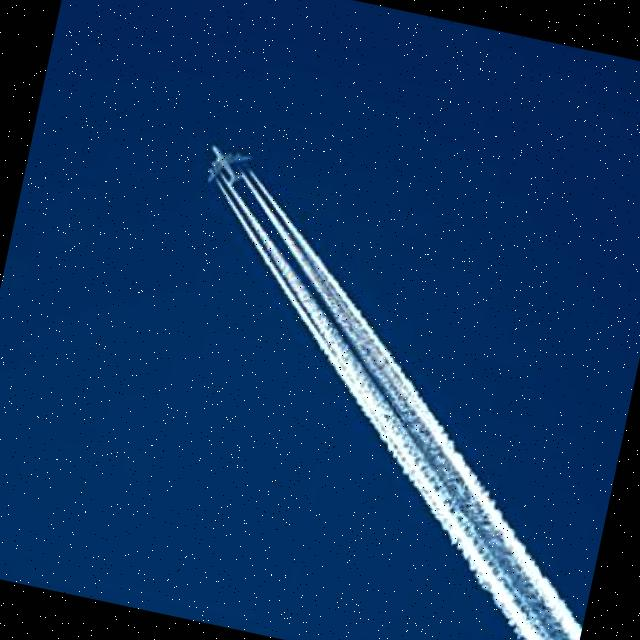Ct: (98, 72, 640, 640)
